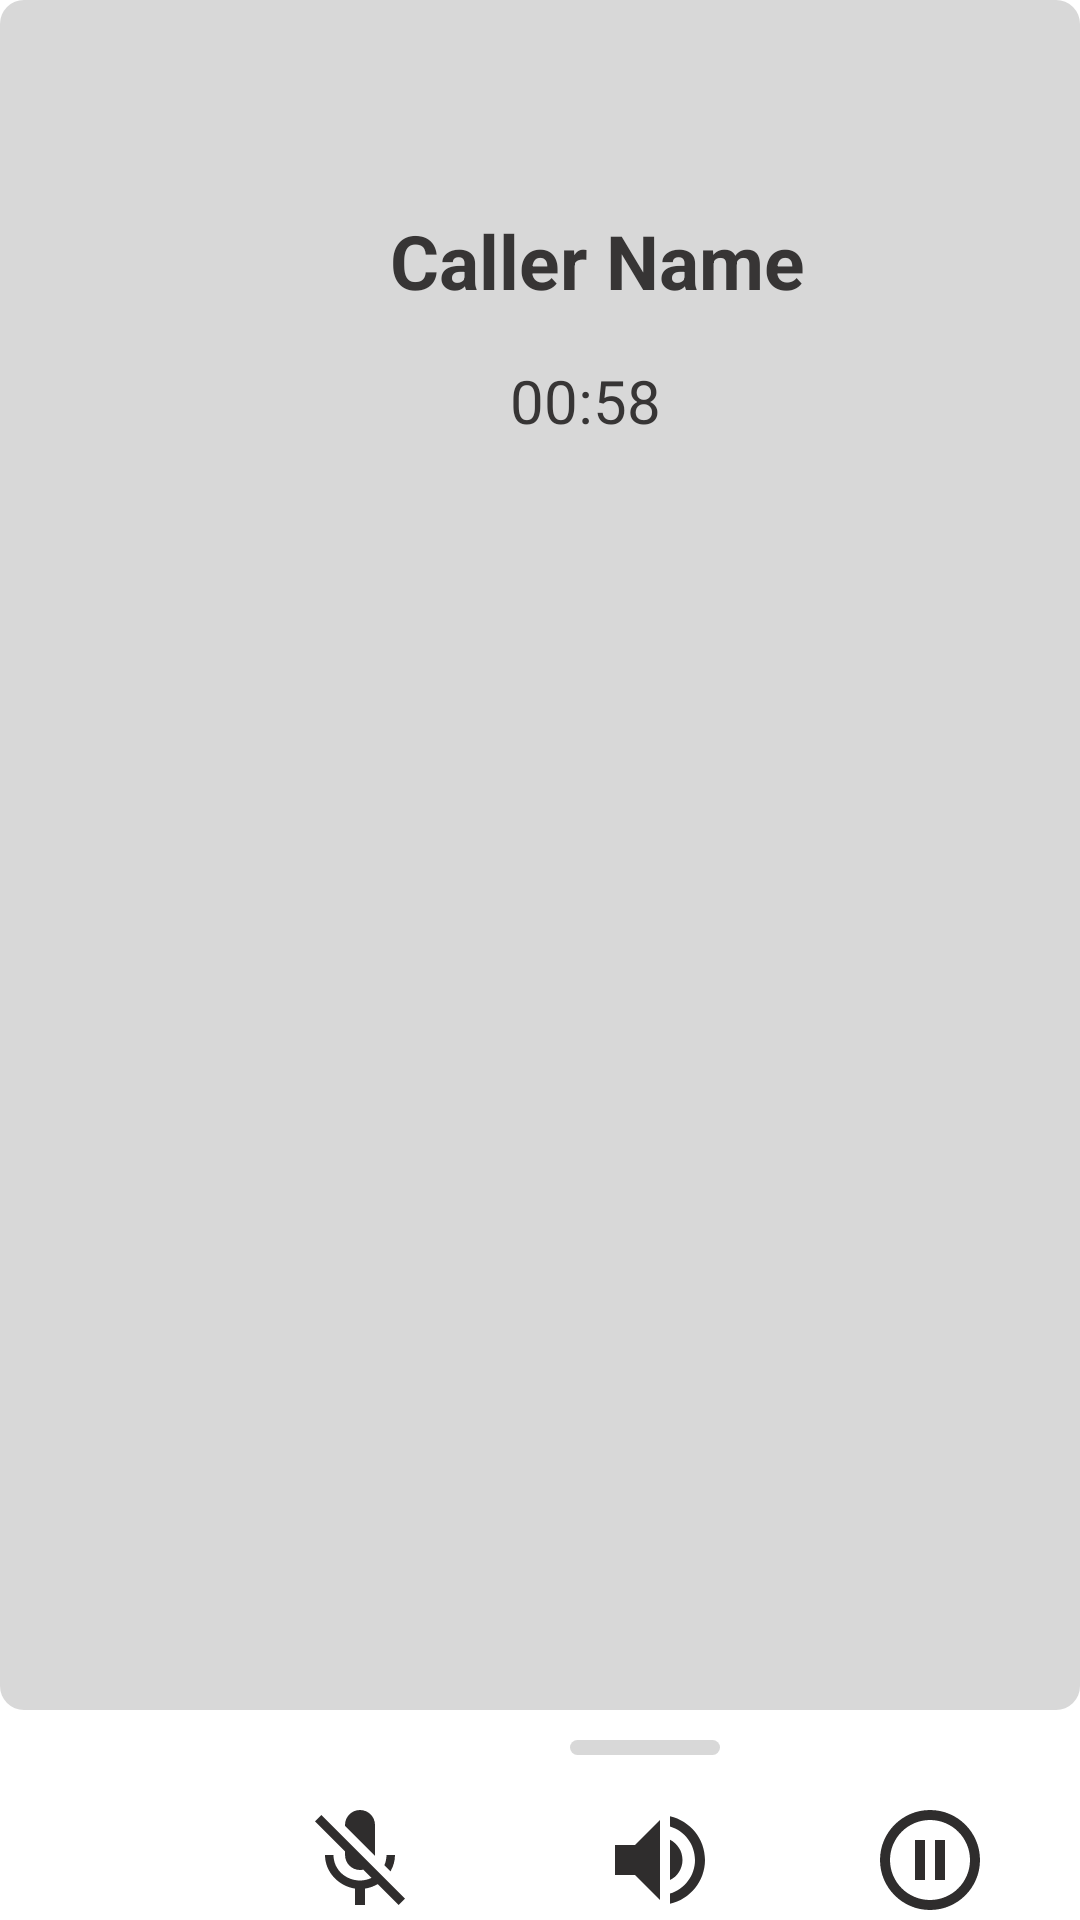

Icons on this 1080 × 1920 Android screen, each with its box as Rect(x1, y1, x2, y2):
mic off: Rect(315, 1810, 405, 1905)
pause circle: Rect(880, 1810, 980, 1910)
volume up: Rect(615, 1816, 705, 1904)
